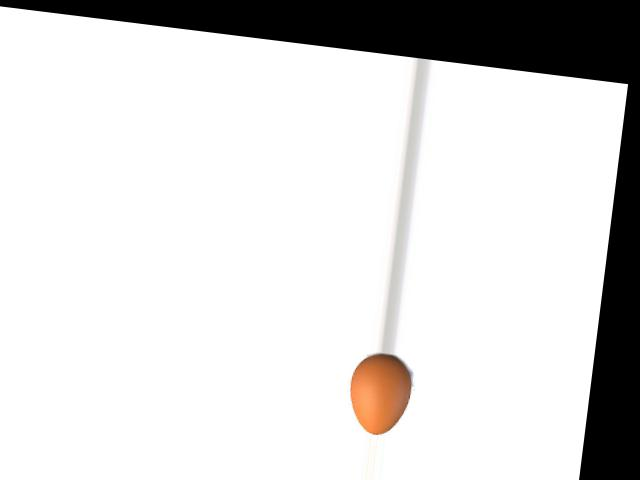egg: (345, 350, 415, 437)
